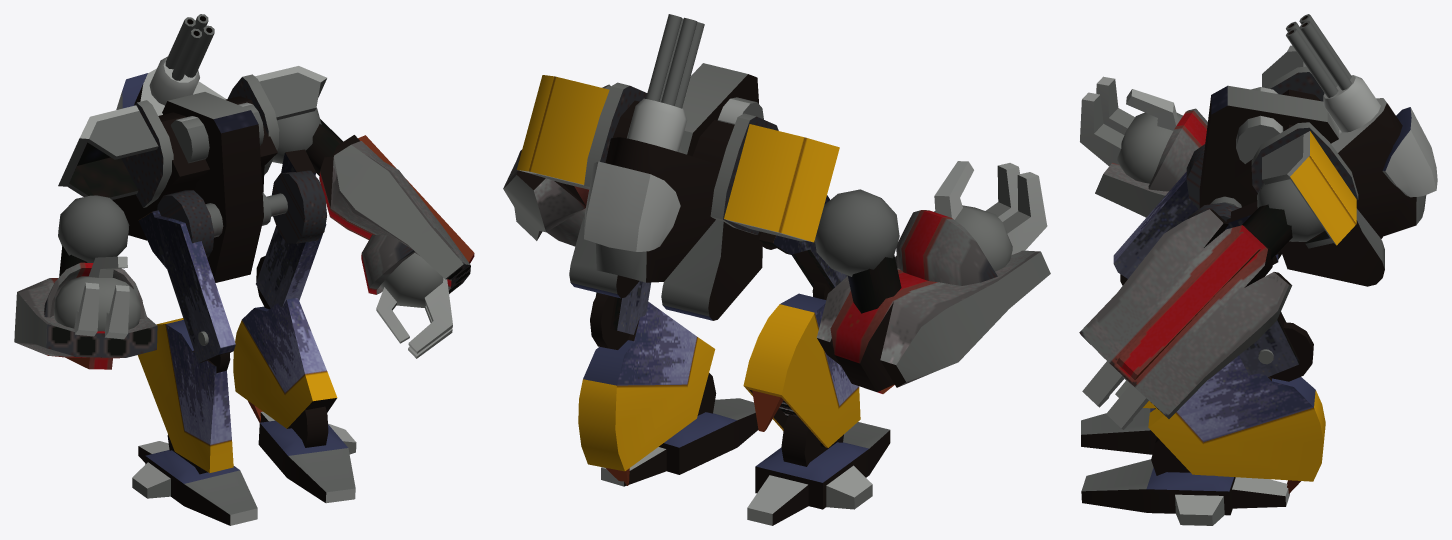
Rendered from npc_sec2bot_000073.obj.
3 views of the same model, side by side, from view 1: azimuth 30°, elevation 25°; view 2: azimuth 150°, elevation 25°; view 3: azimuth 270°, elevation 25° (orthographic). The views are drawn at different scales.
Visible parts, largest first — view 1: npc_sec2bot_npc_sec2bot_meshdata; view 2: npc_sec2bot_npc_sec2bot_meshdata; view 3: npc_sec2bot_npc_sec2bot_meshdata.
Part boxes in pixels (x1,y1,x2,y2): npc_sec2bot_npc_sec2bot_meshdata: (14,14,474,525); npc_sec2bot_npc_sec2bot_meshdata: (503,14,1050,525); npc_sec2bot_npc_sec2bot_meshdata: (1079,14,1437,525).
Bounding box in the file's own units: 2.51 × 2.34 × 1.67.
